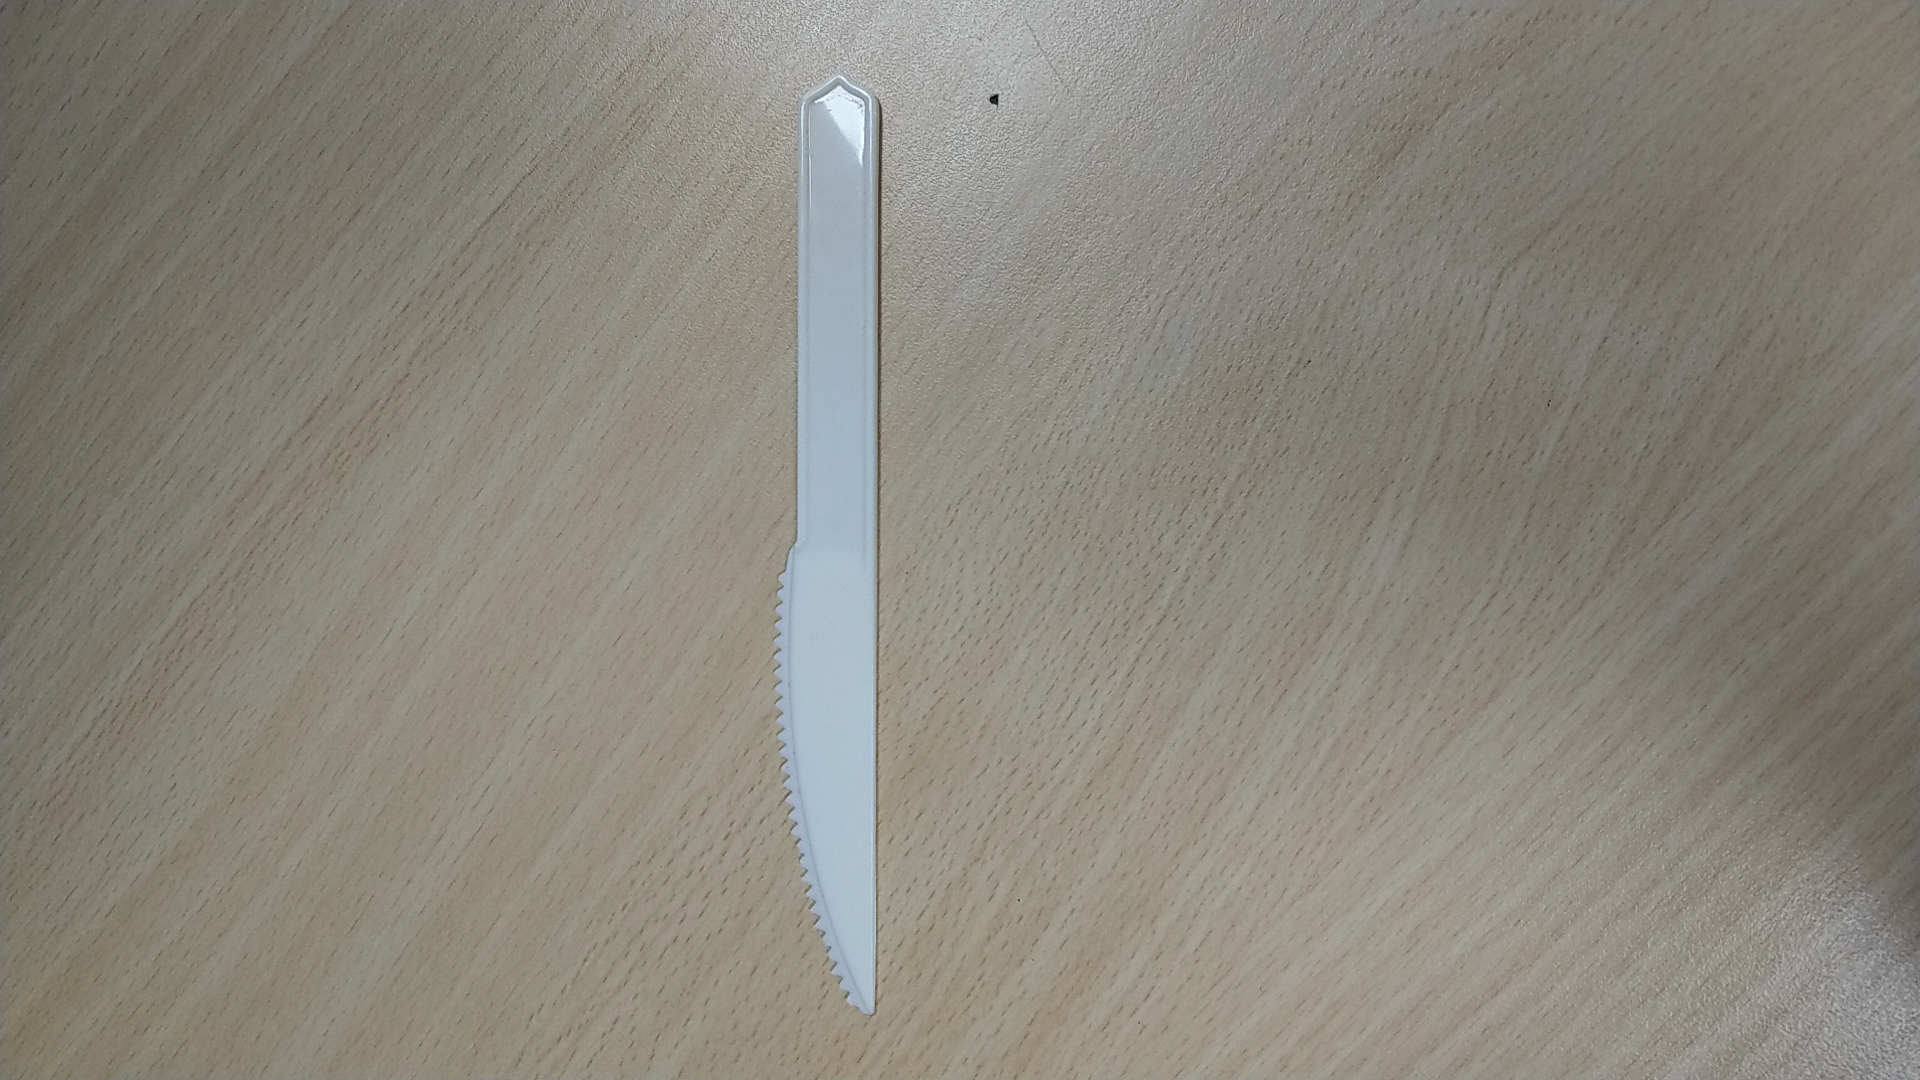knife: (746, 51, 936, 1027)
